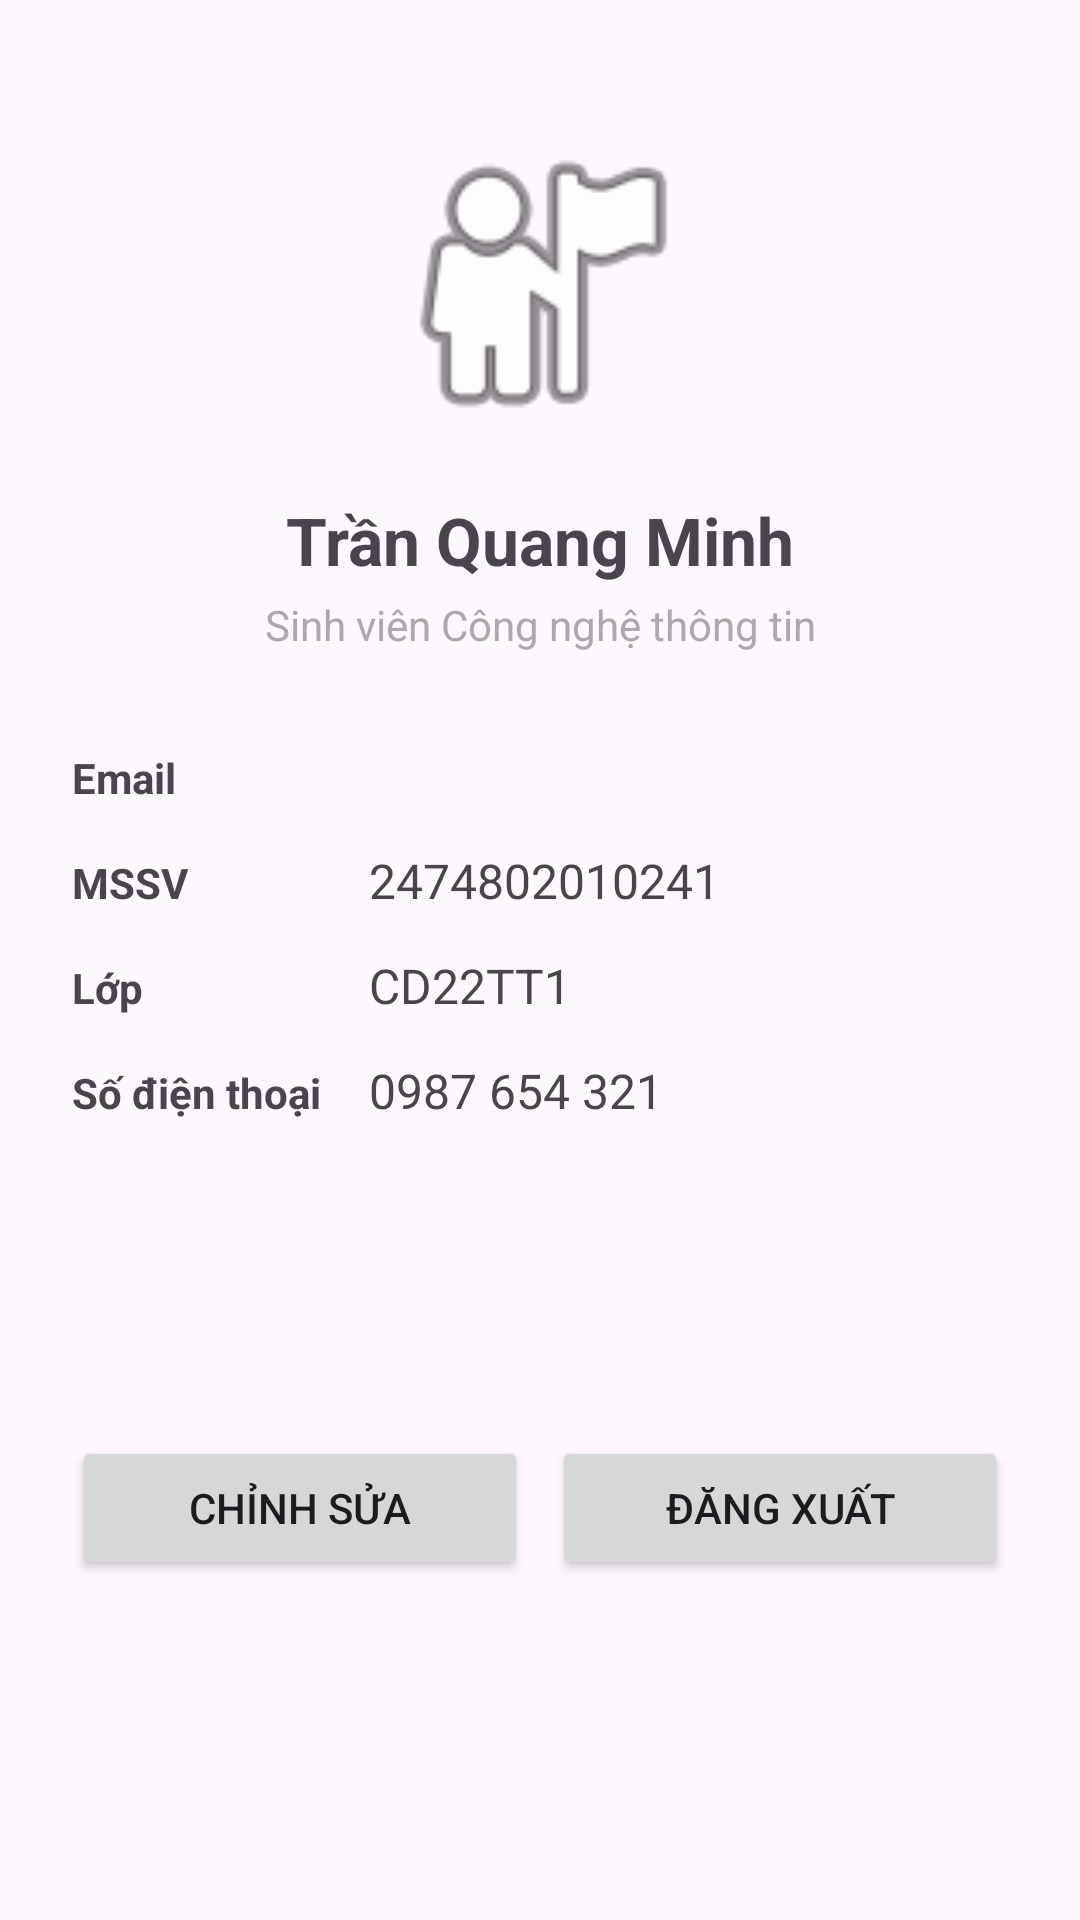

Icons on this 1080*1920 Android screen, each with the point to tap as (x=x, y=y):
Ảnh đại diện: (x=543, y=284)
